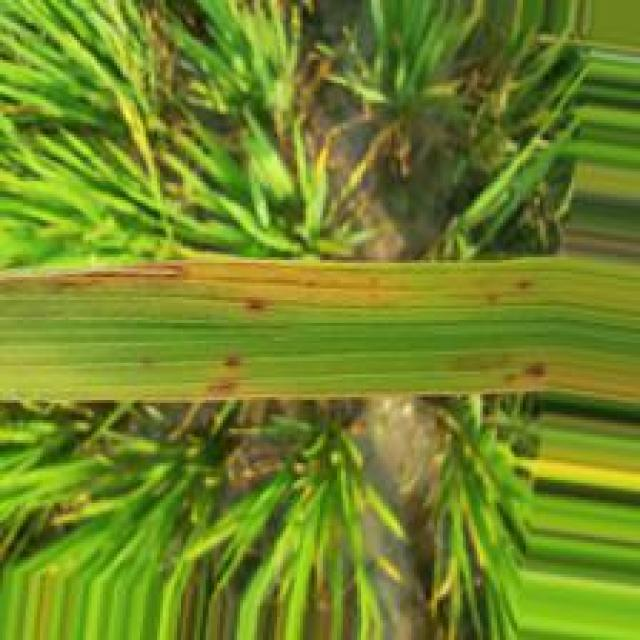Brown_Spot: (37, 263, 197, 297), (522, 356, 554, 380), (244, 294, 268, 314), (224, 349, 242, 372)
